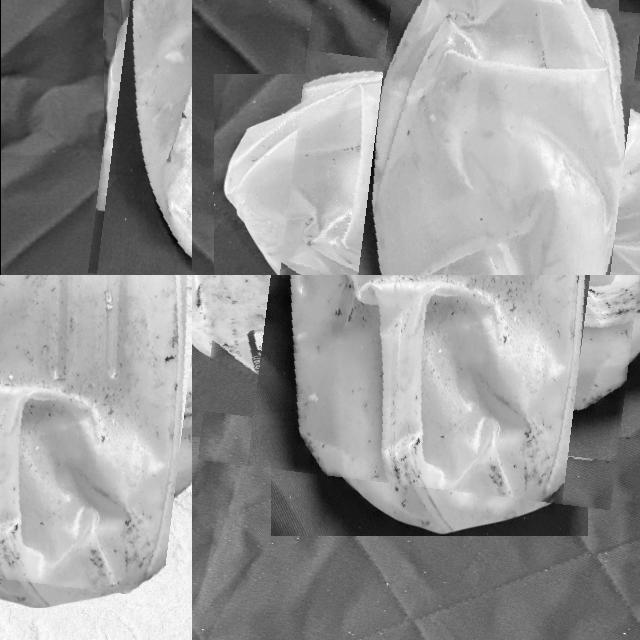milk-jug: (279, 0, 640, 275), (208, 275, 640, 498), (0, 275, 192, 591), (99, 0, 192, 275)
